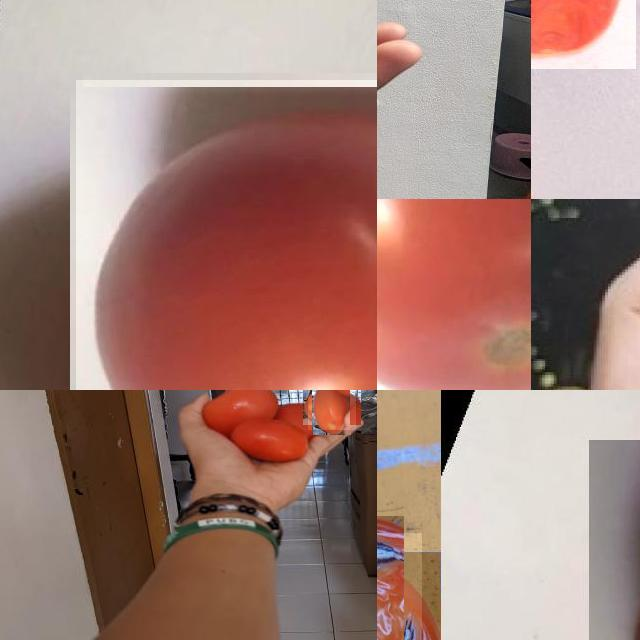0: (76, 79, 377, 390)
Fresh Tomato: (377, 199, 531, 390), (234, 418, 312, 464), (202, 390, 278, 434), (308, 390, 356, 429), (276, 398, 322, 438)
Rotten Tomato: (531, 0, 635, 69)
